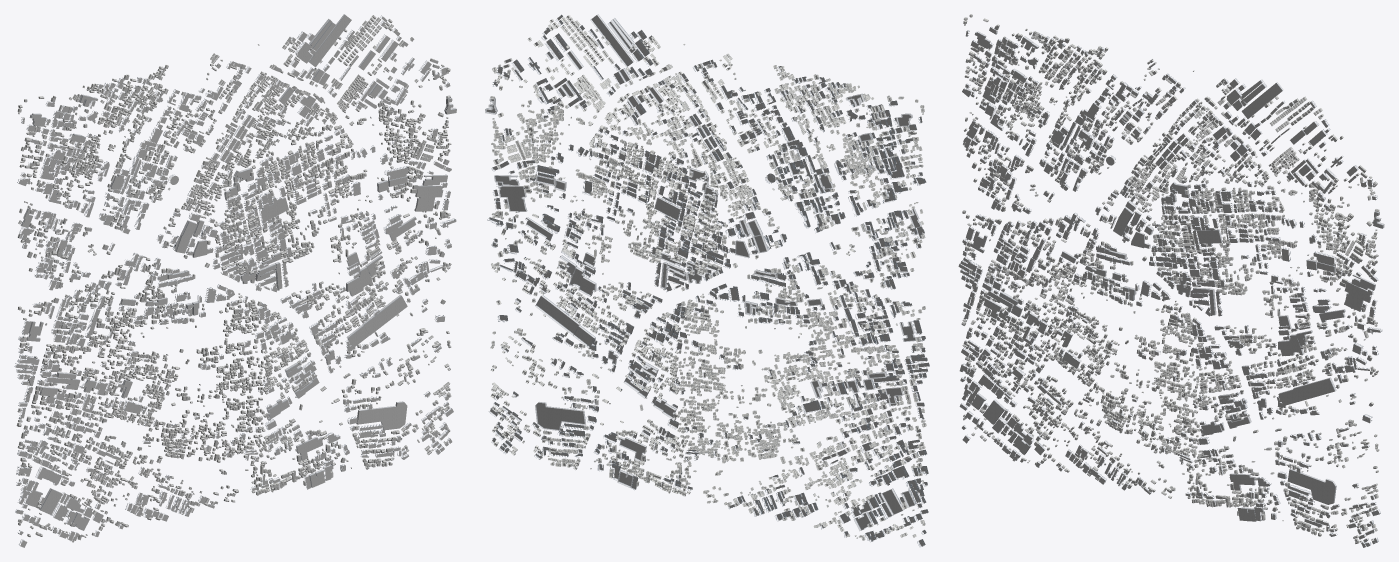
File: buildings_3_3.obj
3 renders of one model, left to right at view 1: azimuth 30°, elevation 25°; view 2: azimuth 150°, elevation 25°; view 3: azimuth 330°, elevation 25°, orthographic. The views are drawn at different scales.
Size of the model in its own units: 2048 by 2063 by 32.45.
Materials: 5 (5 with a texture image).
